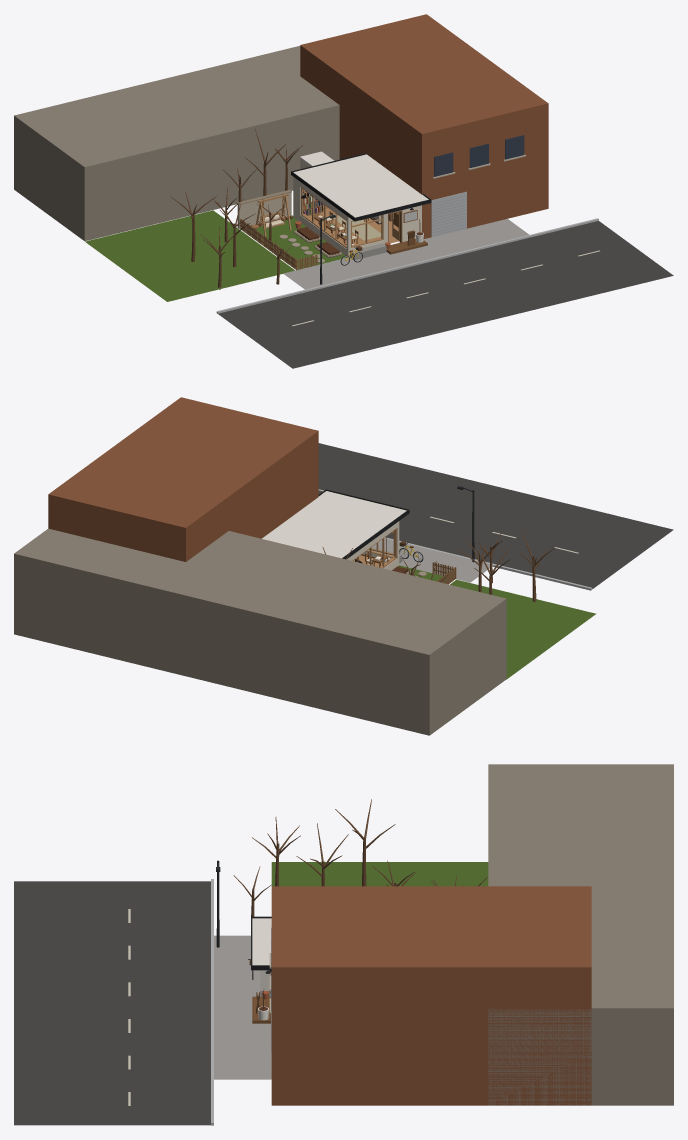
The model's file is house.glb.
3 renders of one model, top to bottom at view 1: azimuth 30°, elevation 25°; view 2: azimuth 150°, elevation 25°; view 3: azimuth 270°, elevation 25°, orthographic. The views are drawn at different scales.
Visible parts, largest first — view 1: surf_plaster_cream, surf_stucco, plane_asphalt_0, plane_lawn_1, solid, plane_paving_0, surf_bark, surf_concrete, surf_wood_oak, plane_lawn_0, surf_wood_light, gloss (+3 smaller); view 2: surf_plaster_cream, surf_stucco, plane_asphalt_0, solid, plane_lawn_1, plane_paving_0, surf_bark, metal, surf_concrete; view 3: surf_stucco, surf_plaster_cream, plane_asphalt_0, plane_paving_0, plane_lawn_1, surf_bark, solid, surf_concrete, metal.
Boxes of the visible parts, x1=… form: surf_plaster_cream: x1=14, y1=46, x2=421, y2=257; surf_stucco: x1=300, y1=14, x2=548, y2=238; plane_asphalt_0: x1=218, y1=221, x2=673, y2=368; plane_lawn_1: x1=85, y1=210, x2=294, y2=301; solid: x1=292, y1=151, x2=599, y2=325; plane_paving_0: x1=283, y1=219, x2=529, y2=289; surf_bark: x1=170, y1=129, x2=420, y2=289; surf_concrete: x1=216, y1=218, x2=598, y2=313; surf_wood_oak: x1=251, y1=187, x2=402, y2=248; plane_lawn_0: x1=246, y1=215, x2=347, y2=269; surf_wood_light: x1=239, y1=191, x2=427, y2=270; gloss: x1=339, y1=135, x2=524, y2=245; surf_plaster_cream: x1=14, y1=521, x2=506, y2=735; surf_stucco: x1=48, y1=397, x2=318, y2=561; plane_asphalt_0: x1=318, y1=443, x2=673, y2=588; solid: x1=262, y1=486, x2=578, y2=565; plane_lawn_1: x1=450, y1=579, x2=596, y2=679; plane_paving_0: x1=372, y1=538, x2=493, y2=582; surf_bark: x1=322, y1=532, x2=554, y2=601; metal: x1=318, y1=486, x2=474, y2=562; surf_concrete: x1=371, y1=537, x2=592, y2=590; surf_stucco: x1=271, y1=886, x2=591, y2=1105; surf_plaster_cream: x1=488, y1=764, x2=673, y2=1105; plane_asphalt_0: x1=14, y1=881, x2=210, y2=1125; plane_paving_0: x1=214, y1=935, x2=271, y2=1079; plane_lawn_1: x1=271, y1=862, x2=488, y2=886; surf_bark: x1=233, y1=799, x2=487, y2=1008; solid: x1=128, y1=862, x2=271, y2=1105; surf_concrete: x1=211, y1=879, x2=270, y2=1125; metal: x1=216, y1=860, x2=271, y2=973.
Size of what is drawn, in the model's own units: 30 by 7.57 by 32.
